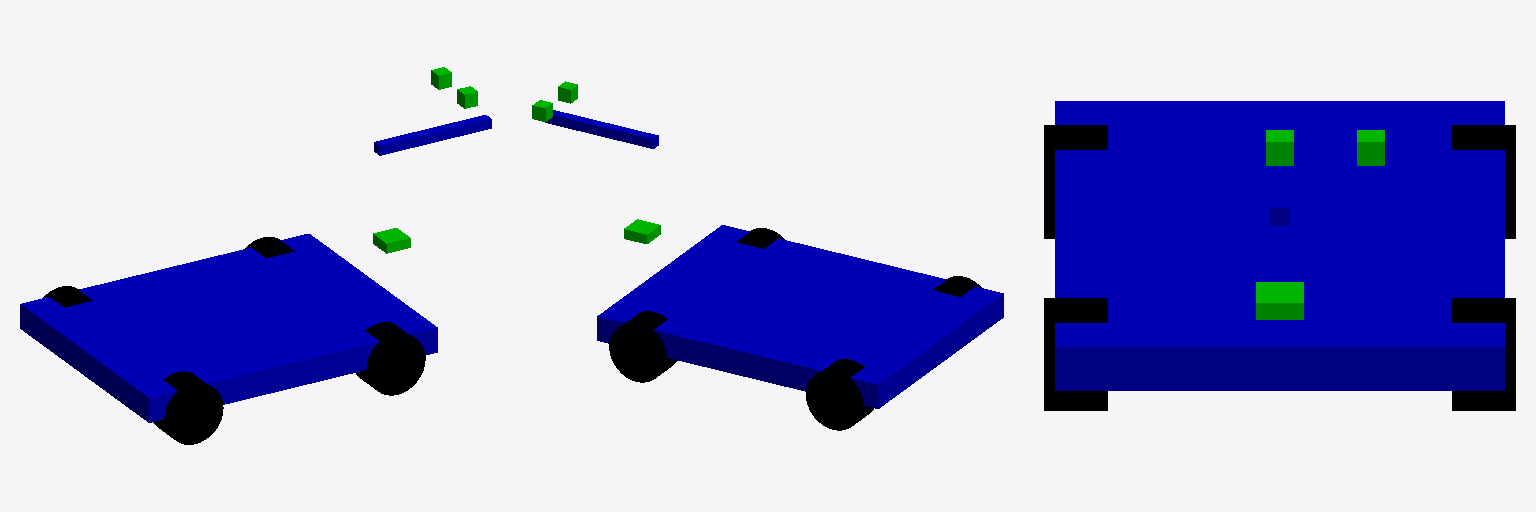
URDF robot description (ackermann_robot):
<?xml version="1.0"?>
<robot xmlns:xacro="http://www.ros.org/wiki/xacro" name="ackermann_robot">

  <!-- Dummy base footprint link to avoid KDL warning -->
  <link name="base_footprint"/>

  <!-- Joint connecting base_footprint to base_link -->
  <joint name="base_footprint_joint" type="fixed">
    <parent link="base_footprint"/>
    <child link="base_link"/>
    <origin xyz="0 0 0.097" rpy="0 0 0"/> 
  </joint>

  <!-- Base Link - Main robot chassis -->
  <link name="base_link">
    <visual>
      <geometry>
        <box size="0.60 0.463 0.05"/>  <!-- 60cm length x 46.3cm width x 5cm height -->
      </geometry>
      <material name="blue">
        <color rgba="0 0 0.8 1"/>
      </material>
    </visual>
    <collision>
      <geometry>
        <box size="0.60 0.463 0.05"/>
      </geometry>
    </collision>
    <inertial>
      <mass value="10.0"/>
      <origin xyz="0 0 0" rpy="0 0 0"/>
      <inertia ixx="0.1475" ixy="0" ixz="0" iyy="0.3025" iyz="0" izz="0.4425"/>
    </inertial>
  </link>

  <!-- Front Left Steering Knuckle -->
  <link name="front_left_steering_knuckle">
    <visual>
      <geometry>
        <box size="0.05 0.05 0.10"/>
      </geometry>
      <material name="gray">
        <color rgba="0.5 0.5 0.5 1"/>
      </material>
    </visual>
    <collision>
      <geometry>
        <box size="0.05 0.05 0.10"/>
      </geometry>
    </collision>
    <inertial>
      <mass value="0.2"/>
      <origin xyz="0 0 0" rpy="0 0 0"/>
      <inertia ixx="0.0002" ixy="0" ixz="0" iyy="0.0002" iyz="0" izz="0.0001"/>
    </inertial>
  </link>

  <!-- Front Right Steering Knuckle -->
  <link name="front_right_steering_knuckle">
    <visual>
      <geometry>
        <box size="0.05 0.05 0.10"/>
      </geometry>
      <material name="gray">
        <color rgba="0.5 0.5 0.5 1"/>
      </material>
    </visual>
    <collision>
      <geometry>
        <box size="0.05 0.05 0.10"/>
      </geometry>
    </collision>
    <inertial>
      <mass value="0.2"/>
      <origin xyz="0 0 0" rpy="0 0 0"/>
      <inertia ixx="0.0002" ixy="0" ixz="0" iyy="0.0002" iyz="0" izz="0.0001"/>
    </inertial>
  </link>

  <!-- Front Left Wheel -->
  <link name="front_left_wheel">
    <visual>
      <geometry>
        <cylinder radius="0.0585" length="0.065"/>
      </geometry>
      <material name="black">
        <color rgba="0 0 0 1"/>
      </material>
    </visual>
    <collision>
      <geometry>
        <cylinder radius="0.0585" length="0.065"/>
      </geometry>
    </collision>
    <inertial>
      <mass value="0.5"/>
      <origin xyz="0 0 0" rpy="0 0 0"/>
      <inertia ixx="0.000531" ixy="0" ixz="0" iyy="0.000531" iyz="0" izz="0.000856"/>
    </inertial>
  </link>

  <!-- Front Right Wheel -->
  <link name="front_right_wheel">
    <visual>
      <geometry>
        <cylinder radius="0.0585" length="0.065"/>
      </geometry>
      <material name="black">
        <color rgba="0 0 0 1"/>
      </material>
    </visual>
    <collision>
      <geometry>
        <cylinder radius="0.0585" length="0.065"/>
      </geometry>
    </collision>
    <inertial>
      <mass value="0.5"/>
      <origin xyz="0 0 0" rpy="0 0 0"/>
      <inertia ixx="0.000531" ixy="0" ixz="0" iyy="0.000531" iyz="0" izz="0.000856"/>
    </inertial>
  </link>

  <!-- Rear Left Wheel -->
  <link name="rear_left_wheel">
    <visual>
      <geometry>
        <cylinder radius="0.0585" length="0.065"/>
      </geometry>
      <material name="black">
        <color rgba="0 0 0 1"/>
      </material>
    </visual>
    <collision>
      <geometry>
        <cylinder radius="0.0585" length="0.065"/>
      </geometry>
    </collision>
    <inertial>
      <mass value="0.5"/>
      <origin xyz="0 0 0" rpy="0 0 0"/>
      <inertia ixx="0.000531" ixy="0" ixz="0" iyy="0.000531" iyz="0" izz="0.000856"/>
    </inertial>
  </link>

  <!-- Rear Right Wheel -->
  <link name="rear_right_wheel">
    <visual>
      <geometry>
        <cylinder radius="0.0585" length="0.065"/>
      </geometry>
      <material name="black">
        <color rgba="0 0 0 1"/>
      </material>
    </visual>
    <collision>
      <geometry>
        <cylinder radius="0.0585" length="0.065"/>
      </geometry>
    </collision>
    <inertial>
      <mass value="0.5"/>
      <origin xyz="0 0 0" rpy="0 0 0"/>
      <inertia ixx="0.000531" ixy="0" ixz="0" iyy="0.000531" iyz="0" izz="0.000856"/>
    </inertial>
  </link>

  <!-- IMU Sensor -->
  <link name="imu_link">
    <visual>
      <geometry>
        <box size="0.05 0.05 0.02"/>
      </geometry>
      <material name="green">
        <color rgba="0 0.8 0 1"/>
      </material>
    </visual>
    <collision>
      <geometry>
        <box size="0.05 0.05 0.02"/>
      </geometry>
    </collision>
    <inertial>
      <mass value="0.1"/>
      <origin xyz="0 0 0" rpy="0 0 0"/>
      <inertia ixx="0.00001" ixy="0" ixz="0" iyy="0.00001" iyz="0" izz="0.00002"/>
    </inertial>
  </link>

  <!-- cam_link1 -->
  <link name="cam_link1">
    <visual>
      <geometry>
        <box size="0.2025 0.02 0.02"/>  <!--length x width x height -->
      </geometry>
      <material name="blue">
        <color rgba="0 0 0.8 1"/>
      </material>
    </visual>
    <collision>
      <geometry>
        <box size="0.2025 0.02 0.02"/>
      </geometry>
    </collision>
  </link>

  <!-- cam_link2 -->
  <link name="cam_link2">
    <visual>
      <geometry>
        <box size="0.087 0.02 0.02"/> 
      </geometry>
      <material name="blue">
        <color rgba="0 0 0.8 1"/>
      </material>
    </visual>
    <collision>
      <geometry>
        <box size="0.087 0.02 0.02"/>
      </geometry>
    </collision>
  </link>

  <!-- cam0 -->
  <link name="cam0">
    <visual>
      <geometry>
        <box size="0.02 0.02 0.02"/> 
      </geometry>
      <material name="blue">
        <color rgba="0 0 0.8 1"/>
      </material>
    </visual>
    <collision>
      <geometry>
        <box size="0.02 0.02 0.02"/>
      </geometry>
    </collision>
  </link>

  <!-- cam0_undis -->
  <link name="cam0_undis">
    <visual>
      <geometry>
        <box size="0.028 0.028 0.028"/> 
      </geometry>
      <material name="green">
        <color rgba="0 0.8 0 1"/>
      </material>
    </visual>
    <collision>
      <geometry>
        <box size="0.028 0.028 0.028"/>
      </geometry>
    </collision>
  </link>
  <!-- cam0_depth -->
  <link name="cam0_depth">
    <visual>
      <geometry>
        <box size="0.028 0.028 0.028"/>
      </geometry>
      <material name="green">
        <color rgba="0 0.8 0 1"/>
      </material>
    </visual>
    <collision>
      <geometry>
        <box size="0.028 0.028 0.028"/>
      </geometry>
    </collision>
  </link>

  <!-- cam1: cam0's stereo partner, 93.6 mm to its right, and the camera that
       sits on the robot centreline. See cam0_joint / cam1_joint. -->
  <link name="cam1">
    <visual>
      <geometry>
        <box size="0.02 0.02 0.02"/>
      </geometry>
      <material name="blue">
        <color rgba="0 0 0.8 1"/>
      </material>
    </visual>
    <collision>
      <geometry>
        <box size="0.02 0.02 0.02"/>
      </geometry>
    </collision>
  </link>

  <!-- cam1_undis -->
  <link name="cam1_undis">
    <visual>
      <geometry>
        <box size="0.028 0.028 0.028"/>
      </geometry>
      <material name="green">
        <color rgba="0 0.8 0 1"/>
      </material>
    </visual>
    <collision>
      <geometry>
        <box size="0.028 0.028 0.028"/>
      </geometry>
    </collision>
  </link>
  <!-- JOINTS -->

  <!-- Front Left Steering Joint -->
  <joint name="front_left_steering_joint" type="revolute">
    <parent link="base_link"/>
    <child link="front_left_steering_knuckle"/>
    <origin xyz="0.21 0.21 -0.025" rpy="0 0 0"/>
    <axis xyz="0 0 1"/>
    <limit lower="-0.6109" upper="0.6109" effort="100" velocity="1.0"/>
    <dynamics damping="0.1" friction="0.01"/>
  </joint>

  <!-- Front Right Steering Joint - Mimic Front Left -->
  <joint name="front_right_steering_joint" type="revolute">
    <parent link="base_link"/>
    <child link="front_right_steering_knuckle"/>
    <origin xyz="0.21 -0.21 -0.025" rpy="0 0 0"/>
    <axis xyz="0 0 1"/>
    <limit lower="-0.6109" upper="0.6109" effort="100" velocity="1.0"/>
    <dynamics damping="0.1" friction="0.01"/>
    <mimic joint="front_left_steering_joint" multiplier="1" offset="0"/>
  </joint>

  <!-- Front Left Wheel Joint -->
  <joint name="front_left_wheel_joint" type="continuous">
    <parent link="front_left_steering_knuckle"/>
    <child link="front_left_wheel"/>
    <origin xyz="0 0 0" rpy="-1.5708 0 0"/>
    <axis xyz="0 0 1"/>
    <!-- 0, not the original 0.2/0.1: that damping capped true ground speed at
         ~0.5 m/s regardless of command. See the note in model.sdf. -->
    <dynamics damping="0.0" friction="0.0"/>
  </joint>

  <!-- Front Right Wheel Joint - Mimic Front Left -->
  <joint name="front_right_wheel_joint" type="continuous">
    <parent link="front_right_steering_knuckle"/>
    <child link="front_right_wheel"/>
    <origin xyz="0 0 0" rpy="-1.5708 0 0"/>
    <axis xyz="0 0 1"/>
    <!-- 0, not the original 0.2/0.1: that damping capped true ground speed at
         ~0.5 m/s regardless of command. See the note in model.sdf. -->
    <dynamics damping="0.0" friction="0.0"/>
    <mimic joint="front_left_wheel_joint" multiplier="1" offset="0"/>
  </joint>

  <!-- Rear Left Wheel Joint (DRIVEN) -->
  <joint name="rear_left_wheel_joint" type="continuous">
    <parent link="base_link"/>
    <child link="rear_left_wheel"/>
    <origin xyz="-0.21 0.21 -0.025" rpy="-1.5708 0 0"/>
    <axis xyz="0 0 1"/>
    <!-- 0, not the original 0.2/0.1: that damping capped true ground speed at
         ~0.5 m/s regardless of command. See the note in model.sdf. -->
    <dynamics damping="0.0" friction="0.0"/>
  </joint>

  <!-- Rear Right Wheel Joint (DRIVEN) - Mimic Rear Left -->
  <joint name="rear_right_wheel_joint" type="continuous">
    <parent link="base_link"/>
    <child link="rear_right_wheel"/>
    <origin xyz="-0.21 -0.21 -0.025" rpy="-1.5708 0 0"/>
    <axis xyz="0 0 1"/>
    <!-- 0, not the original 0.2/0.1: that damping capped true ground speed at
         ~0.5 m/s regardless of command. See the note in model.sdf. -->
    <dynamics damping="0.0" friction="0.0"/>
    <mimic joint="rear_left_wheel_joint" multiplier="1" offset="0"/>
  </joint>

  <!-- IMU Joint -->
  <joint name="imu_joint" type="fixed">
    <parent link="base_link"/>
    <child link="imu_link"/>
    <!-- <origin xyz="0.387 0 0.016" rpy="0 0 0"/> -->
    <origin xyz="0.338 0 0.095" rpy="0 0 0"/>
  </joint>

  <!-- cam_link1 Joint -->
  <joint name="cam_link1_joint" type="fixed">
    <parent link="base_link"/>
    <child link="cam_link1"/>
    <origin xyz="0.409 0 0.2845" rpy="0 0.0 0"/> <!-- 0.436332313 rad = 25 degree -->
  </joint>

  <!-- cam_link2 Joint -->
  <joint name="cam_link2_joint" type="fixed">
    <parent link="cam_link1"/>
    <child link="cam_link2"/>
    <origin xyz="0.087 0 0" rpy="0 0 0"/> 
  </joint>

  <!-- cam0 Joint. The +Y (base left) offset puts cam1, not cam0, on the robot
       centreline: cam_link2 stays centred, the pair hangs off it to the left by
       one baseline, and cam1_joint's -0.0936 brings cam1 back to base y=0. -->
  <joint name="cam0_joint" type="fixed">
    <parent link="cam_link2"/>
    <child link="cam0"/>
    <origin xyz="0 0.0936 0.058" rpy="0 0 0"/>
  </joint>

  <!-- cam0_undis Joint -->
  <joint name="cam0_undis_joint" type="fixed">
    <parent link="cam0"/>
    <child link="cam0_undis"/>
    <origin xyz="0 0 0" rpy="-1.5707963268 0 -1.5707963268"/>
  </joint>

  <!-- cam0_depth Joint -->
  <joint name="cam0_depth_joint" type="fixed">
    <parent link="cam0"/>
    <child link="cam0_depth"/>
    <origin xyz="0 0 0" rpy="-1.5707963268 0 -1.5707963268"/>
  </joint>

  <!-- cam1 Joint.
       Baseline 0.0936 m, taken from the real rig's calibrated 93.598 mm
       (vins_fusion_ros2/config/wil/stereo_imu.yaml, body_T_cam1) so simulated
       and hardware geometry agree. The calibration puts cam1 on cam0's optical
       +X, which is the robot's right, hence the negative y in this y-left
       frame. -->
  <joint name="cam1_joint" type="fixed">
    <parent link="cam0"/>
    <child link="cam1"/>
    <origin xyz="0 -0.0936 0" rpy="0 0 0"/>
  </joint>

  <!-- cam1_undis Joint -->
  <joint name="cam1_undis_joint" type="fixed">
    <parent link="cam1"/>
    <child link="cam1_undis"/>
    <origin xyz="0 0 0" rpy="-1.5707963268 0 -1.5707963268"/>
  </joint>

  <!-- Gazebo-specific elements -->
  <gazebo reference="base_link">
    <material>Gazebo/Blue</material>
  </gazebo>

  <gazebo reference="front_left_wheel">
    <material>Gazebo/Black</material>
    <mu1>1.0</mu1>
    <mu2>1.0</mu2>
  </gazebo>

  <gazebo reference="front_right_wheel">
    <material>Gazebo/Black</material>
    <mu1>1.0</mu1>
    <mu2>1.0</mu2>
  </gazebo>

  <gazebo reference="rear_left_wheel">
    <material>Gazebo/Black</material>
    <mu1>1.0</mu1>
    <mu2>1.0</mu2>
  </gazebo>

  <gazebo reference="rear_right_wheel">
    <material>Gazebo/Black</material>
    <mu1>1.0</mu1>
    <mu2>1.0</mu2>
  </gazebo>

  <gazebo reference="front_left_steering_knuckle">
    <material>Gazebo/Grey</material>
  </gazebo>

  <gazebo reference="front_right_steering_knuckle">
    <material>Gazebo/Grey</material>
  </gazebo>

  <gazebo reference="imu_link">
    <material>Gazebo/Green</material>
  </gazebo>

  <!--
    SENSORS.

    Kept in sync by hand with models/ackermann_robot/model.sdf, which is what the
    simulation actually loads (small_warehouse.world includes it via
    model://ackermann_robot). Editing this file alone changes nothing at runtime.
    They live here so `ign sdf -p` regeneration reproduces them rather than
    silently dropping them; see the header comment in model.sdf.

    Unlike the Gazebo/Blue material stubs above, these are Fortress-targeted, not
    Gazebo Classic: the plugin-free <sensor> form is what gz-sim 6 expects, and
    the topics are bridged to ROS by the package's launch files. The full
    rationale for every number is in model.sdf; the short version:
      - Ideal pinhole, because Fortress ships no wide-angle camera. 90 deg
        horizontal FOV at 1280 px gives fx = fy = 640, cx = 640, cy = 360, which
        is what vins_fusion_ros2/config/wil_sim/cam0_pinhole.yaml declares.
      - IMU noise <stddev> is a per-sample figure: the ADIS16448 densities times
        sqrt(200 Hz).
    Requires ignition-gazebo-sensors-system and ignition-gazebo-imu-system in the
    world.
  -->
  <gazebo reference="cam0">
    <sensor name="cam0" type="camera">
      <topic>cam0/image_raw</topic>
      <update_rate>20</update_rate>
      <always_on>1</always_on>
      <visualize>0</visualize>
      <camera>
        <horizontal_fov>1.5707963268</horizontal_fov>
        <image>
          <width>1280</width>
          <height>720</height>
          <format>R8G8B8</format>
        </image>
        <clip>
          <near>0.05</near>
          <far>100</far>
        </clip>
        <noise>
          <type>gaussian</type>
          <mean>0</mean>
          <stddev>0.005</stddev>
        </noise>
      </camera>
    </sensor>
  </gazebo>

  <gazebo reference="cam1">
    <sensor name="cam1" type="camera">
      <topic>cam1/image_raw</topic>
      <update_rate>20</update_rate>
      <always_on>1</always_on>
      <visualize>0</visualize>
      <camera>
        <horizontal_fov>1.5707963268</horizontal_fov>
        <image>
          <width>1280</width>
          <height>720</height>
          <format>R8G8B8</format>
        </image>
        <clip>
          <near>0.05</near>
          <far>100</far>
        </clip>
        <noise>
          <type>gaussian</type>
          <mean>0</mean>
          <stddev>0.005</stddev>
        </noise>
      </camera>
    </sensor>
  </gazebo>

  <gazebo reference="imu_link">
    <sensor name="imu" type="imu">
      <topic>imu</topic>
      <update_rate>200</update_rate>
      <always_on>1</always_on>
      <imu>
        <angular_velocity>
          <x>
            <noise type="gaussian">
              <mean>0</mean>
              <stddev>0.0048</stddev>
              <dynamic_bias_stddev>3.8785e-05</dynamic_bias_stddev>
              <dynamic_bias_correlation_time>1000</dynamic_bias_correlation_time>
            </noise>
          </x>
          <y>
            <noise type="gaussian">
              <mean>0</mean>
              <stddev>0.0048</stddev>
              <dynamic_bias_stddev>3.8785e-05</dynamic_bias_stddev>
              <dynamic_bias_correlation_time>1000</dynamic_bias_correlation_time>
            </noise>
          </y>
          <z>
            <noise type="gaussian">
              <mean>0</mean>
              <stddev>0.0048</stddev>
              <dynamic_bias_stddev>3.8785e-05</dynamic_bias_stddev>
              <dynamic_bias_correlation_time>1000</dynamic_bias_correlation_time>
            </noise>
          </z>
        </angular_velocity>
        <linear_acceleration>
          <x>
            <noise type="gaussian">
              <mean>0</mean>
              <stddev>0.0566</stddev>
              <dynamic_bias_stddev>0.006</dynamic_bias_stddev>
              <dynamic_bias_correlation_time>300</dynamic_bias_correlation_time>
            </noise>
          </x>
          <y>
            <noise type="gaussian">
              <mean>0</mean>
              <stddev>0.0566</stddev>
              <dynamic_bias_stddev>0.006</dynamic_bias_stddev>
              <dynamic_bias_correlation_time>300</dynamic_bias_correlation_time>
            </noise>
          </y>
          <z>
            <noise type="gaussian">
              <mean>0</mean>
              <stddev>0.0566</stddev>
              <dynamic_bias_stddev>0.006</dynamic_bias_stddev>
              <dynamic_bias_correlation_time>300</dynamic_bias_correlation_time>
            </noise>
          </z>
        </linear_acceleration>
      </imu>
    </sensor>
  </gazebo>
  
</robot>

--- What the picture shows (computed from the rendered views, not written in the file) ---
The picture shows the robot from 3 angles, left to right: view 1: azimuth 30°, elevation 25°; view 2: azimuth 150°, elevation 25°; view 3: azimuth 270°, elevation 25°; orthographic projection.
Robot: ackermann_robot — 16 links, 15 joints (2 revolute, 4 continuous, 9 fixed); root link base_footprint; default pose: all joints at 0.
Visible links, largest first — view 1: base_link, front_right_wheel, rear_right_wheel, cam_link1, imu_link, rear_left_wheel, front_left_wheel; view 2: base_link, rear_left_wheel, front_left_wheel, cam_link1, imu_link, front_right_wheel, rear_right_wheel; view 3: base_link, front_left_wheel, front_right_wheel, rear_left_wheel, rear_right_wheel, imu_link, cam0_undis, cam1_undis, cam_link1, cam_link2.
Boxes of the visible links, bbox=[...] form: base_link: bbox=[20, 234, 437, 422]; front_right_wheel: bbox=[356, 322, 425, 395]; rear_right_wheel: bbox=[153, 371, 223, 444]; cam_link1: bbox=[374, 118, 476, 155]; imu_link: bbox=[373, 228, 410, 253]; rear_left_wheel: bbox=[43, 286, 92, 307]; front_left_wheel: bbox=[245, 237, 294, 257]; base_link: bbox=[597, 225, 1003, 408]; rear_left_wheel: bbox=[806, 359, 873, 430]; front_left_wheel: bbox=[609, 311, 677, 382]; cam_link1: bbox=[559, 114, 658, 148]; imu_link: bbox=[624, 219, 660, 243]; front_right_wheel: bbox=[737, 228, 784, 248]; rear_right_wheel: bbox=[934, 276, 981, 296]; base_link: bbox=[1055, 101, 1504, 390]; front_left_wheel: bbox=[1452, 298, 1515, 410]; front_right_wheel: bbox=[1044, 298, 1107, 410]; rear_left_wheel: bbox=[1452, 125, 1515, 238]; rear_right_wheel: bbox=[1044, 125, 1107, 238]; imu_link: bbox=[1256, 282, 1303, 319]; cam0_undis: bbox=[1357, 130, 1384, 165]; cam1_undis: bbox=[1266, 130, 1293, 165]; cam_link1: bbox=[1270, 113, 1289, 195]; cam_link2: bbox=[1270, 173, 1289, 225].
Size in the robot's own frame: 0.8395 by 0.485 by 0.44 metres.
Geometry: primitives only (box / cylinder / sphere), no mesh files.
